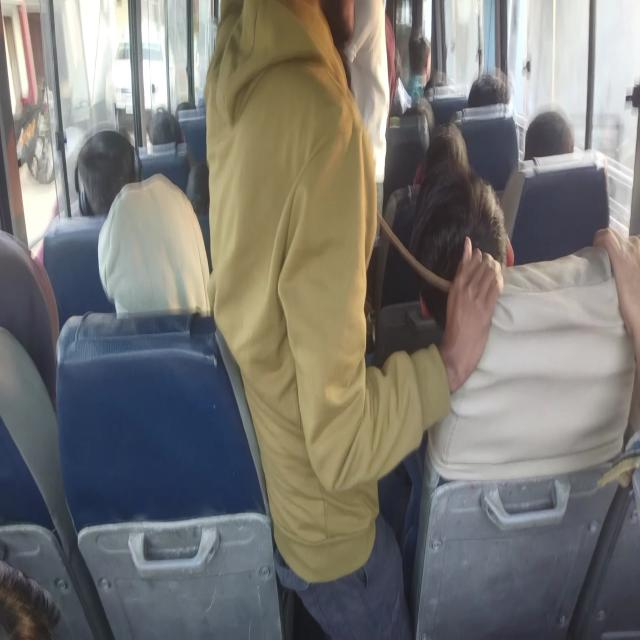person: (214, 0, 379, 517), (585, 196, 640, 431), (108, 202, 213, 322), (324, 0, 391, 173), (0, 248, 58, 408), (424, 170, 503, 279), (0, 563, 63, 640), (76, 136, 124, 198), (523, 118, 582, 162), (421, 130, 480, 172), (186, 147, 212, 219), (409, 96, 445, 143), (144, 107, 179, 148), (474, 80, 520, 107), (408, 32, 430, 64), (175, 95, 193, 116)
